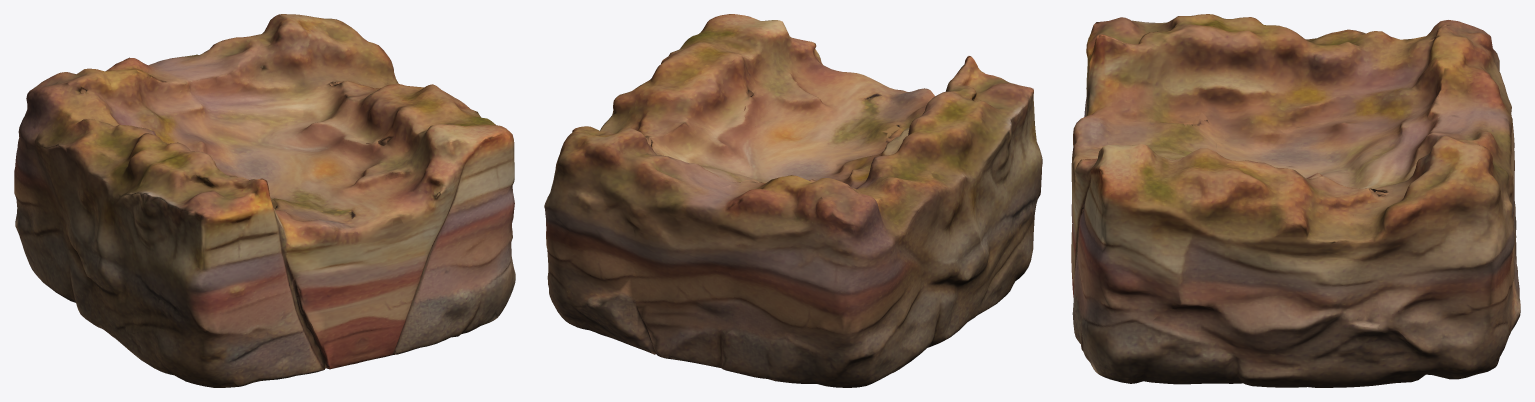
The picture shows the model from 3 angles, left to right: view 1: azimuth 30°, elevation 25°; view 2: azimuth 150°, elevation 25°; view 3: azimuth 270°, elevation 25°; orthographic projection. The views are drawn at different scales.
Visible parts, largest first — view 1: world; view 2: world; view 3: world.
Part boxes in pixels (x1,y1,x2,y2): world: (14,14,515,387); world: (544,14,1042,387); world: (1071,14,1520,387).
Bounding box in the file's own units: 30 × 16.63 × 29.28.
1 material, 1 textured.
